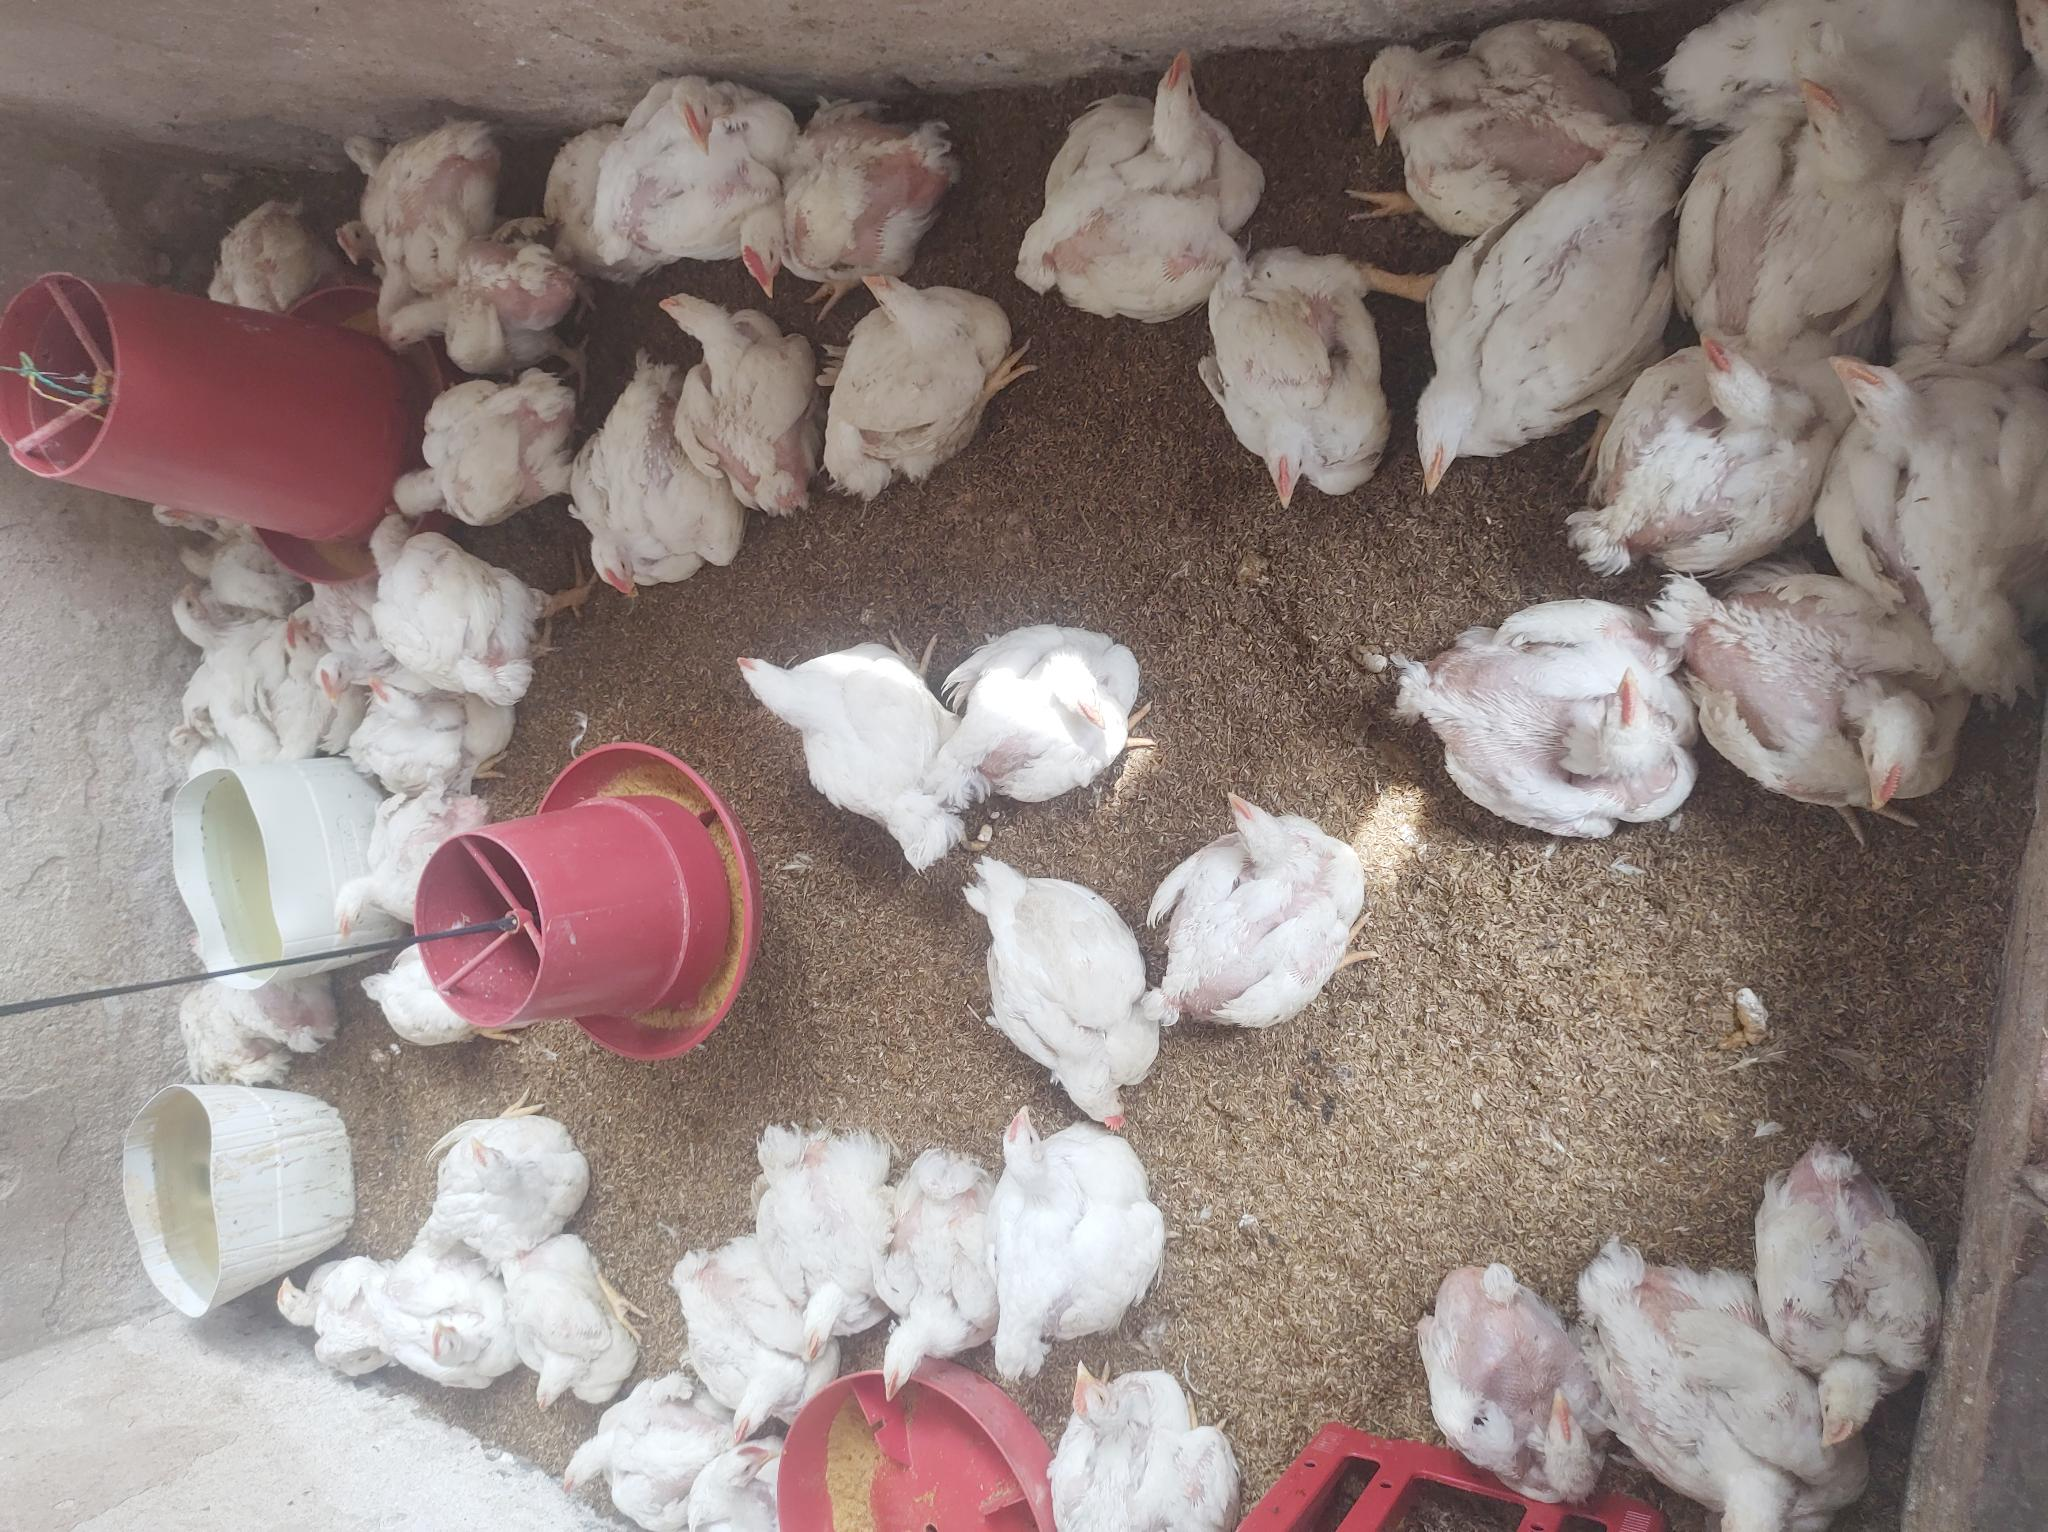Pollos: (1390, 143, 1676, 494), (1588, 1250, 1887, 1532), (1380, 600, 1692, 858), (1828, 346, 2048, 710), (1692, 562, 1951, 830), (1557, 315, 1828, 563), (1330, 3, 1646, 208), (1142, 785, 1371, 1062), (1022, 56, 1242, 333), (1884, 0, 2048, 365), (1754, 1131, 1945, 1440), (1686, 101, 1890, 386), (726, 642, 967, 874), (1199, 249, 1396, 517), (1680, 0, 2017, 151), (989, 1099, 1174, 1371), (729, 87, 960, 296), (819, 262, 1023, 494), (989, 858, 1158, 1130), (1408, 1266, 1588, 1514), (590, 55, 788, 272), (640, 290, 829, 512), (557, 365, 751, 578), (948, 608, 1149, 813), (1034, 1357, 1266, 1532), (359, 517, 574, 695), (146, 933, 339, 1122), (389, 356, 584, 534), (418, 1099, 621, 1260), (874, 1139, 1007, 1381), (755, 1122, 899, 1344), (325, 105, 510, 266), (676, 1233, 825, 1418), (380, 216, 565, 365), (307, 803, 520, 933), (547, 1371, 701, 1519), (381, 1241, 507, 1415), (257, 1220, 381, 1394), (504, 1254, 652, 1394), (349, 695, 510, 816), (183, 216, 319, 349), (352, 941, 492, 1069), (544, 121, 627, 272), (676, 1435, 822, 1514), (114, 526, 278, 591), (282, 549, 368, 649), (167, 698, 251, 800), (167, 581, 275, 658), (146, 484, 257, 531), (325, 669, 380, 739)
